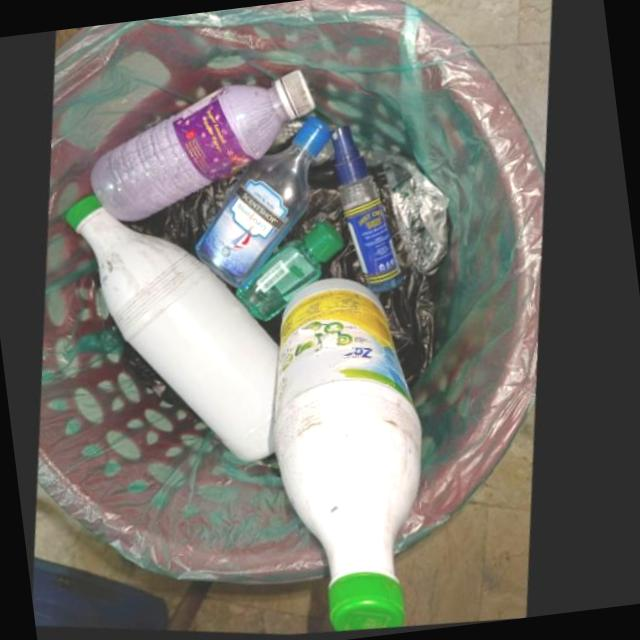chai_nhua: (67, 197, 285, 464), (277, 277, 429, 633), (93, 71, 317, 225), (199, 118, 333, 290), (333, 126, 408, 293), (240, 222, 349, 323)
